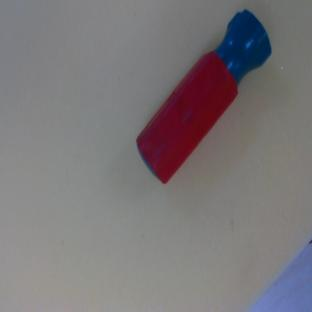part_2_good: (124, 7, 283, 185)
